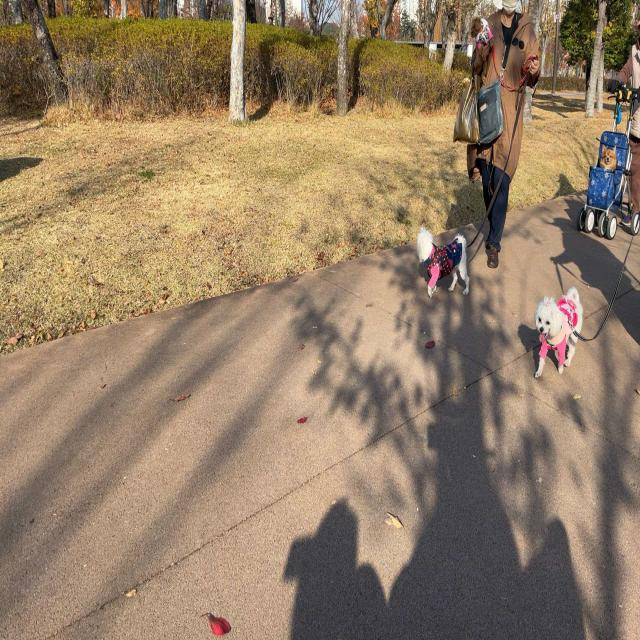Dog: (533, 288, 584, 380), (470, 15, 494, 78), (600, 142, 617, 170)
Leashed_Dog: (416, 178, 497, 300)
